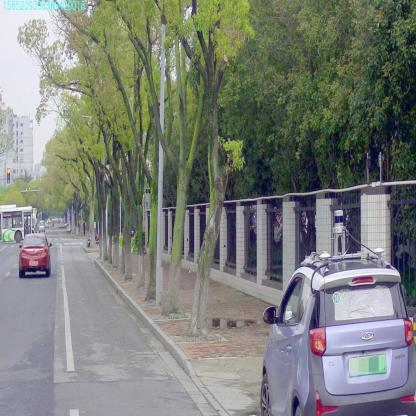traffic-light: (7, 168, 10, 184)
